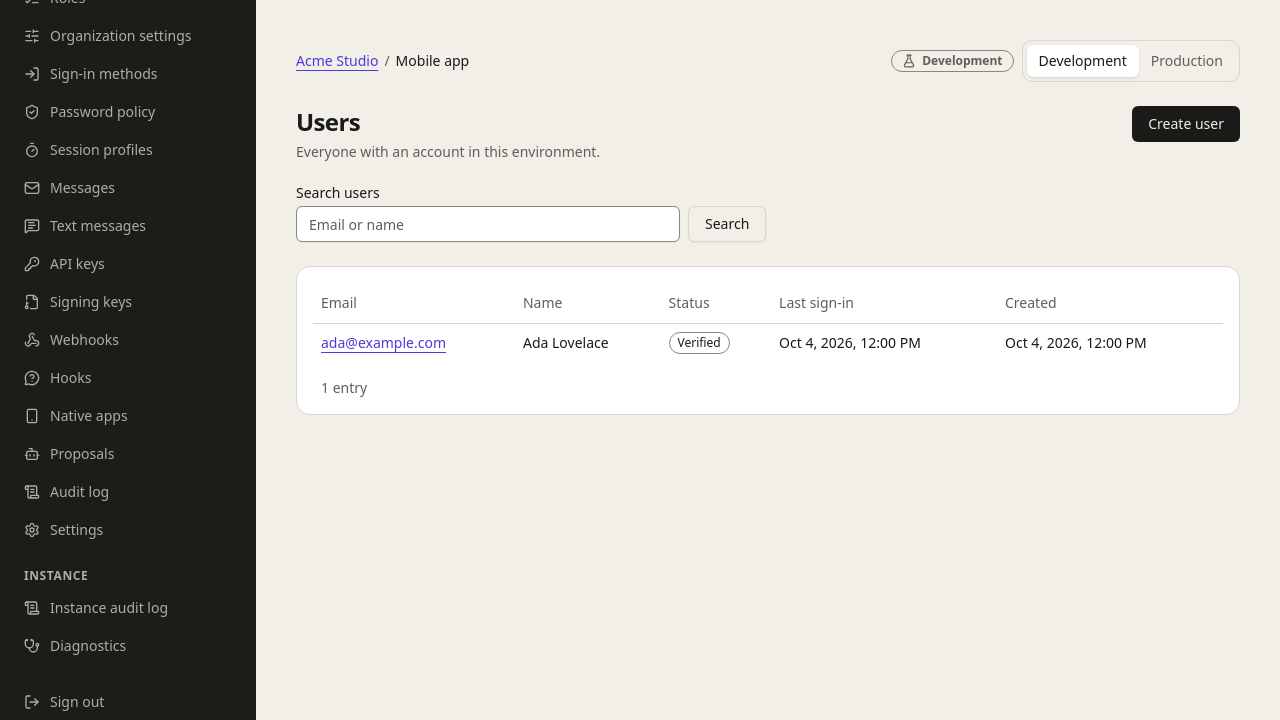
Test: the list of points › the navigation leads to it, and every point is listed, with or without a hook
(page scrolled)
Expected: the heading "Users" is shown, [296, 105, 360, 138]
What coordinates should you click on to do the following:
click the link "Hooks"
I would click on:
 (58, 378)
Its box is [24, 368, 92, 387].
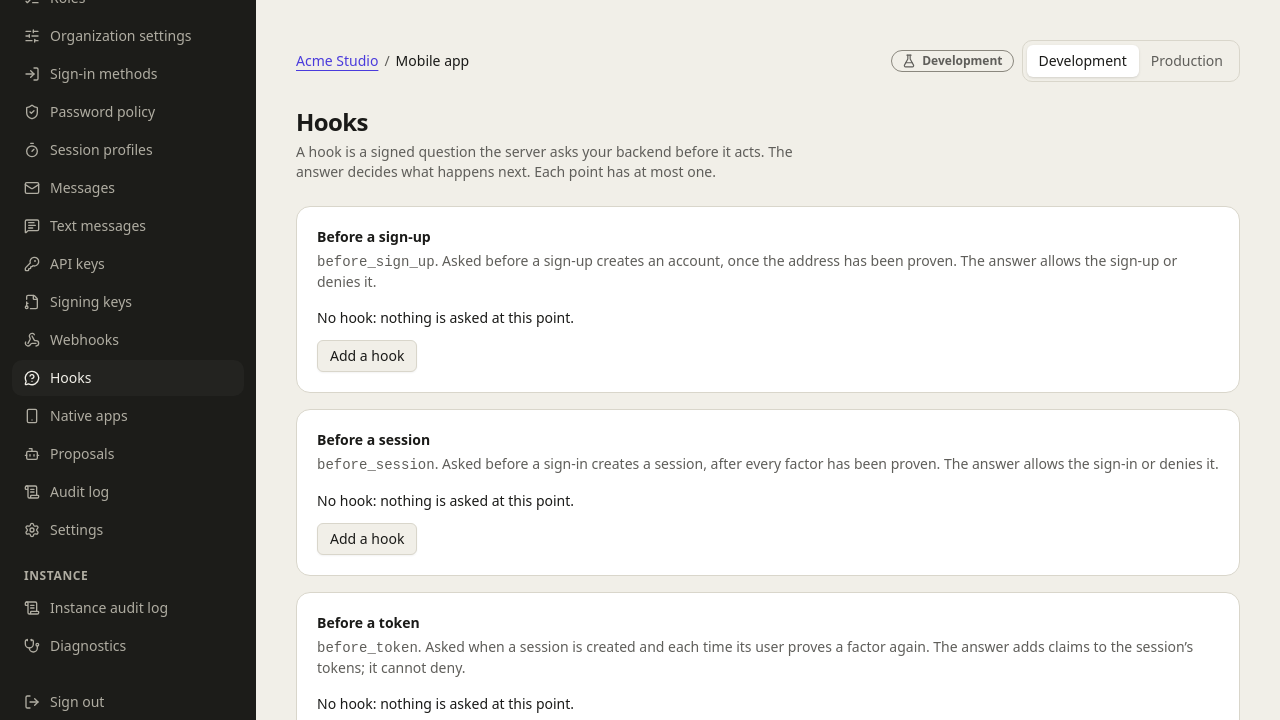
Now the heading "Hooks" is shown, box [296, 105, 368, 138]
Now the text with test id "hook-none" below "before_sign_up" reads "No hook: nothing is asked at this point.", box [317, 308, 574, 327]
Now the text with test id "hook-none" below "before_session" reads "No hook: nothing is asked at this point.", box [317, 491, 574, 510]
